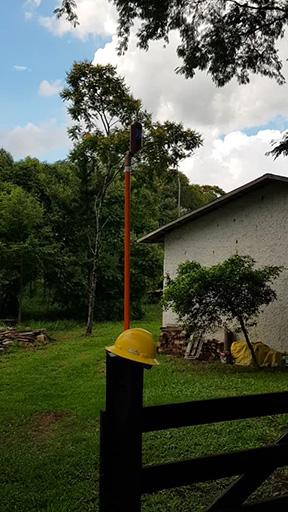Vara_Manobra: (122, 156, 130, 329)
